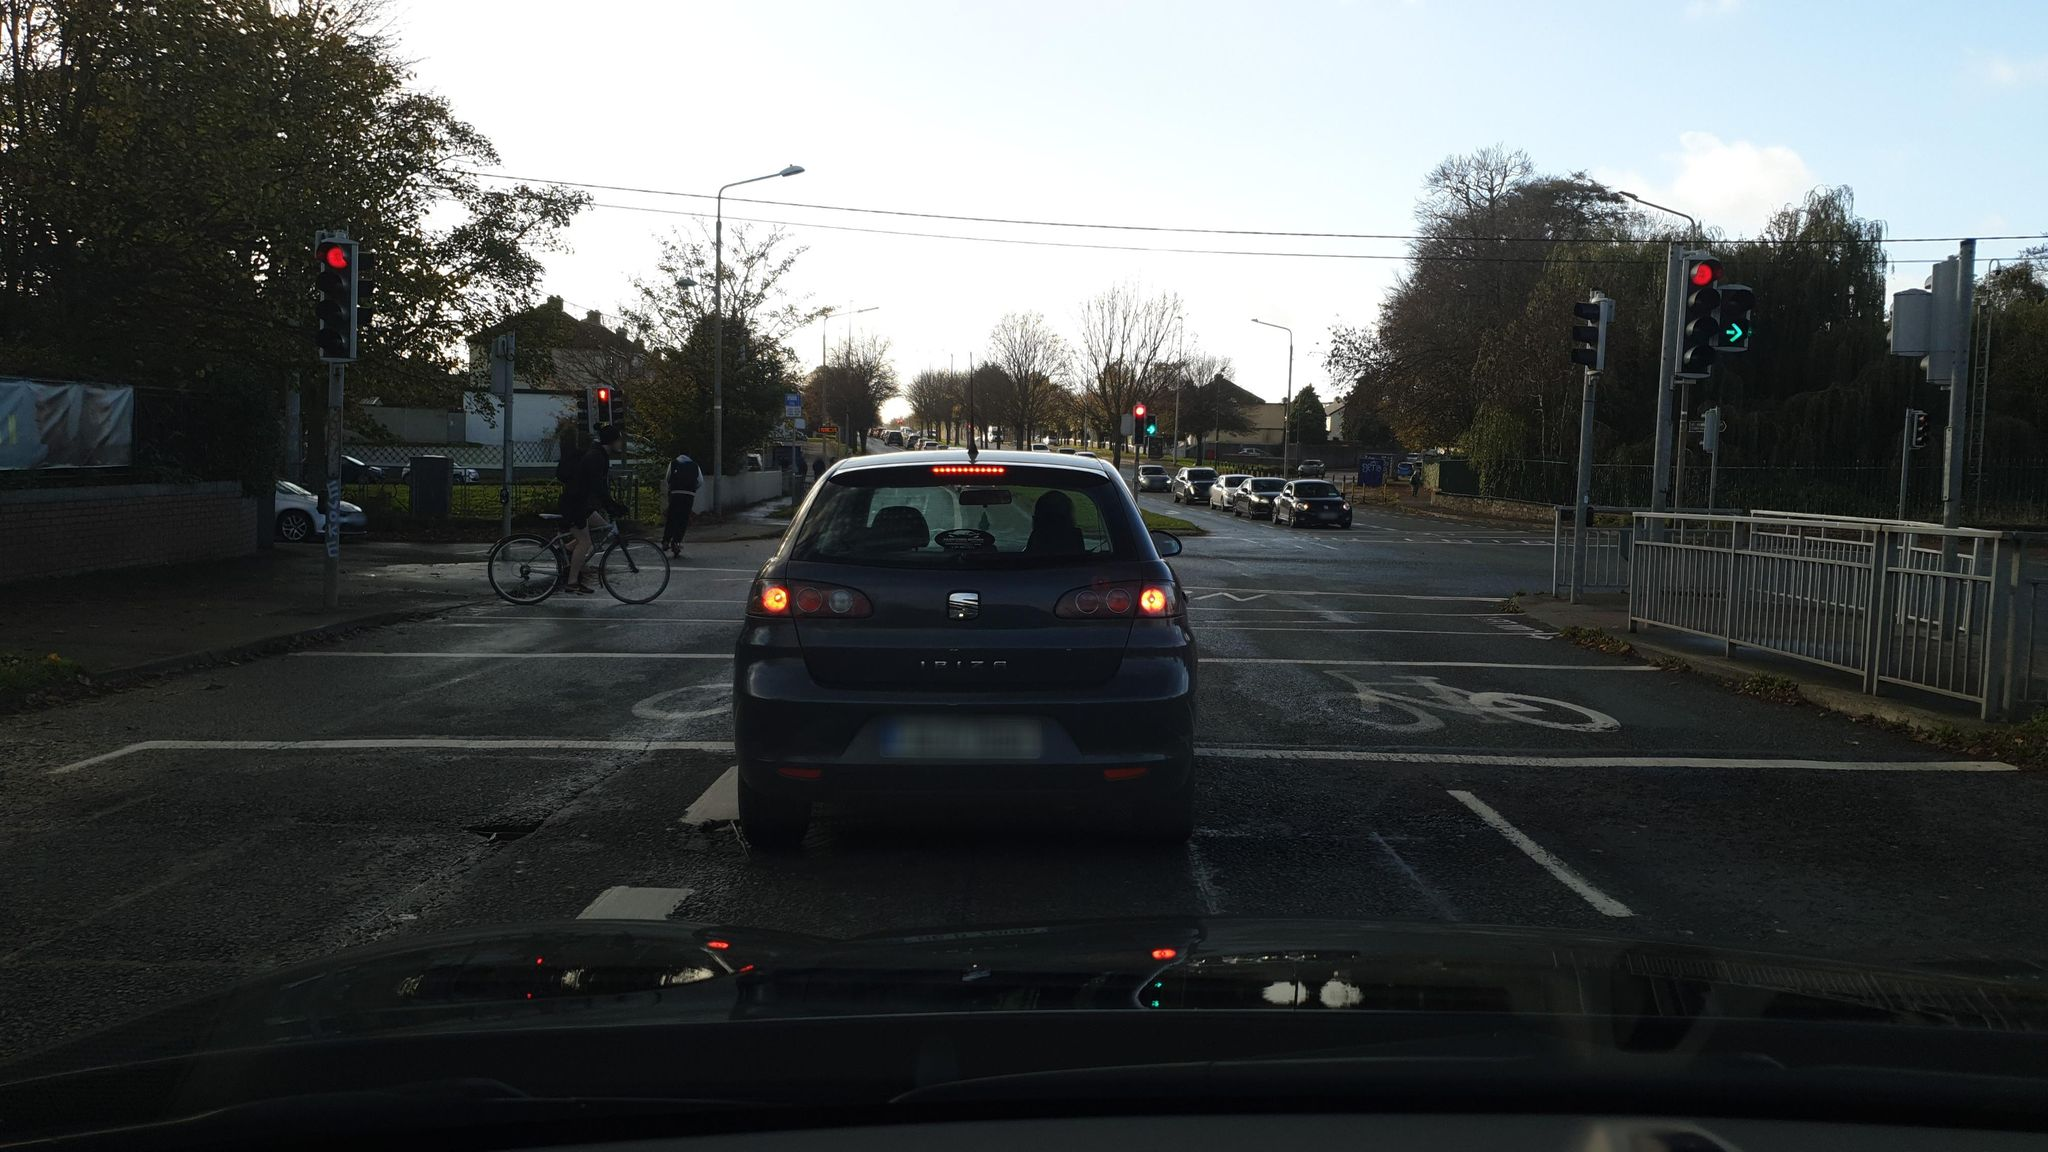vinyl banner: (6, 370, 138, 487)
